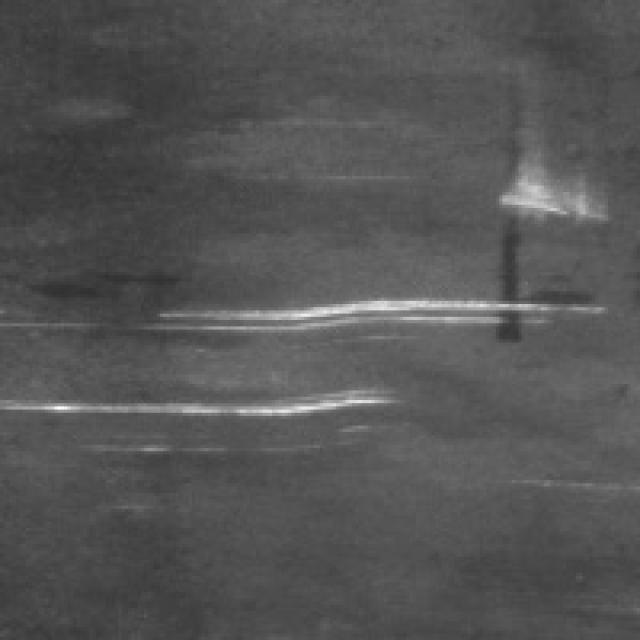inclusion: (493, 77, 525, 349)
scratches: (138, 285, 602, 336), (0, 371, 394, 429), (477, 150, 605, 224)
